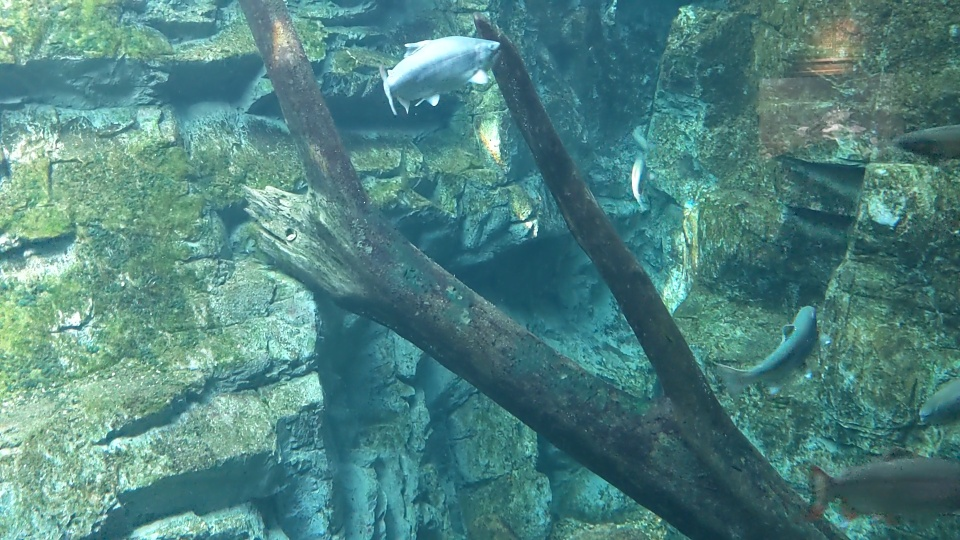Fish: (799, 444, 960, 520), (372, 34, 499, 107), (721, 296, 818, 385), (892, 102, 960, 179), (919, 354, 960, 418), (631, 151, 649, 206)
